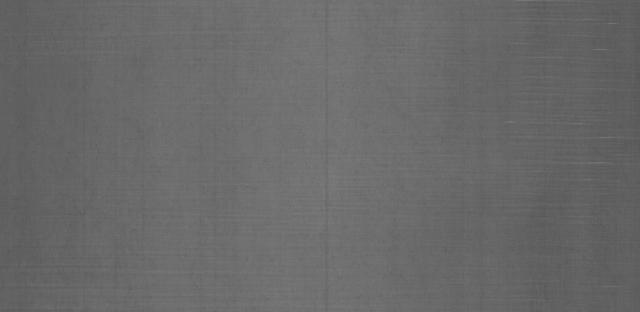waist_folding: (487, 26, 606, 252)
